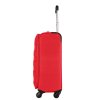luggage: (31, 6, 63, 100)
